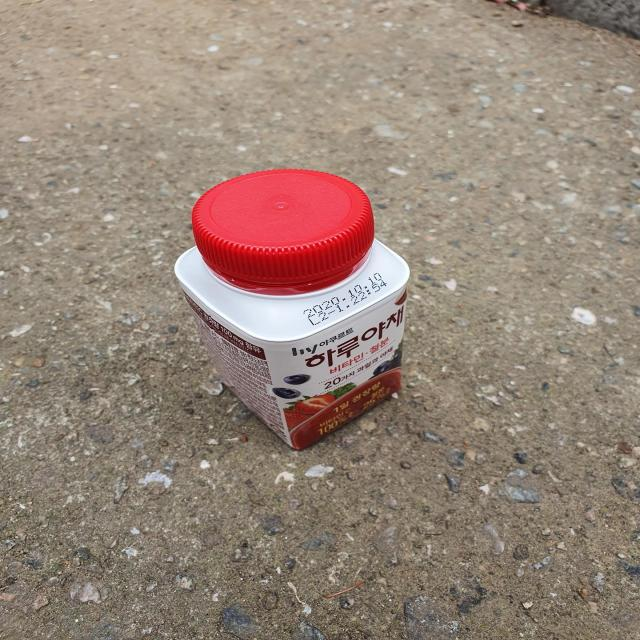paperpack: (174, 169, 409, 450)
